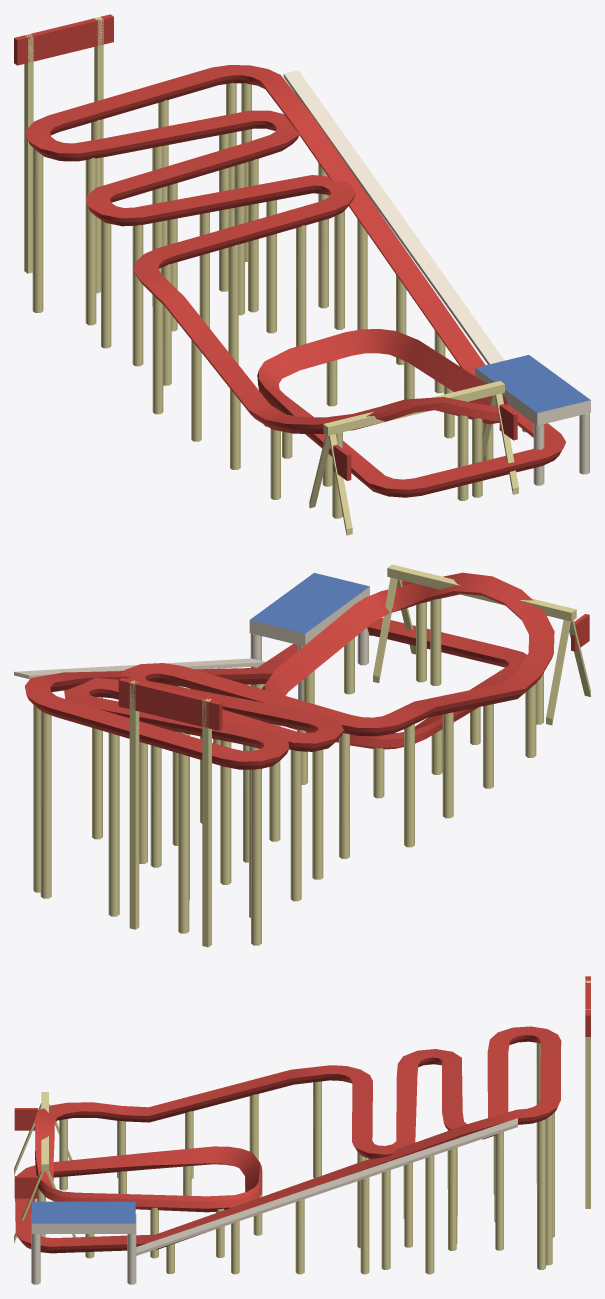
File: nyc-tickler.glb
The picture shows the model from 3 angles, top to bottom: view 1: azimuth 30°, elevation 25°; view 2: azimuth 150°, elevation 25°; view 3: azimuth 270°, elevation 25°; orthographic projection. The views are drawn at different scales.
Parts seen in each view (by area): view 1: The Tickler; view 2: The Tickler; view 3: The Tickler.
Part boxes in pixels (left/top/right/bottom): The Tickler: left=14, top=14, right=590, bottom=535; The Tickler: left=14, top=564, right=590, bottom=947; The Tickler: left=14, top=976, right=590, bottom=1284.
Bounding box in the file's own units: 20.32 × 17.8 × 44.52.
